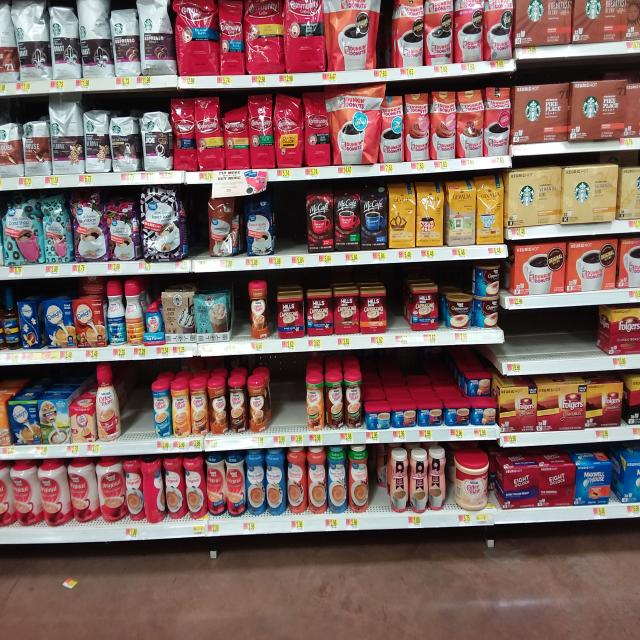empty: (494, 305, 610, 356), (114, 358, 160, 441), (262, 356, 307, 436), (272, 187, 312, 256), (175, 187, 212, 258)
